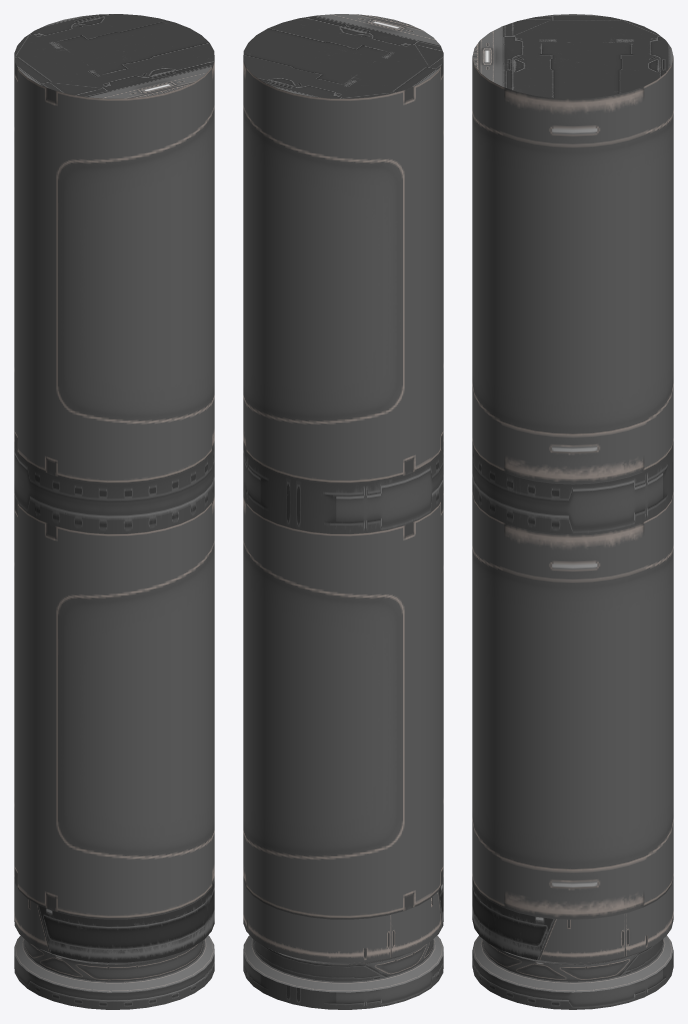
The model's file is quaternius-scifi-column-round.glb.
The picture shows the model from 3 angles, left to right: view 1: azimuth 30°, elevation 25°; view 2: azimuth 150°, elevation 25°; view 3: azimuth 270°, elevation 25°; orthographic projection.
Parts seen in each view (by area): view 1: Column_Round; view 2: Column_Round; view 3: Column_Round.
Boxes of the visible parts, bbox=[...] form: Column_Round: bbox=[14, 14, 214, 1009]; Column_Round: bbox=[243, 14, 443, 1009]; Column_Round: bbox=[472, 14, 673, 1009].
Size of the model in its own units: 1 by 5 by 1.
2 materials, 2 textured.
